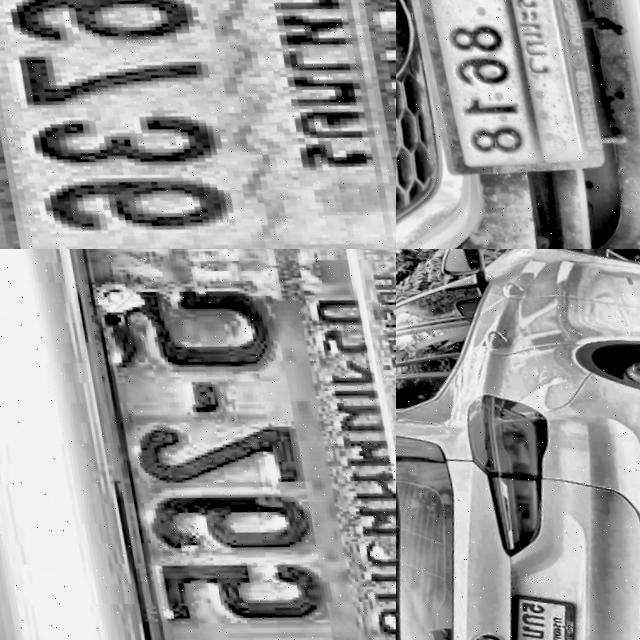license-plate: (29, 249, 396, 640), (0, 0, 396, 249), (396, 0, 606, 180), (485, 579, 587, 640)
